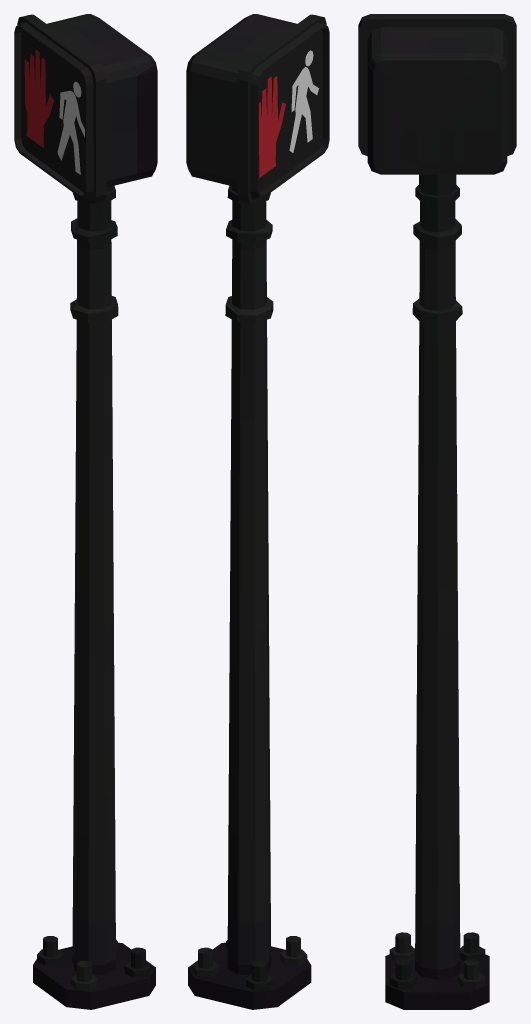
The model's file is LightPole11.fbx.
3 views of the same model, side by side, from view 1: azimuth 30°, elevation 25°; view 2: azimuth 150°, elevation 25°; view 3: azimuth 270°, elevation 25° (orthographic).
Visible parts, largest first — view 1: SM_City_LightPole_03b.mo; view 2: SM_City_LightPole_03b.mo; view 3: SM_City_LightPole_03b.mo.
Boxes of the visible parts, x1,y1,x2,y2 form: SM_City_LightPole_03b.mo: [14, 14, 157, 1009]; SM_City_LightPole_03b.mo: [186, 14, 329, 1009]; SM_City_LightPole_03b.mo: [358, 14, 516, 1009].
Size of the model in its own units: 34.6 by 350 by 52.61.
